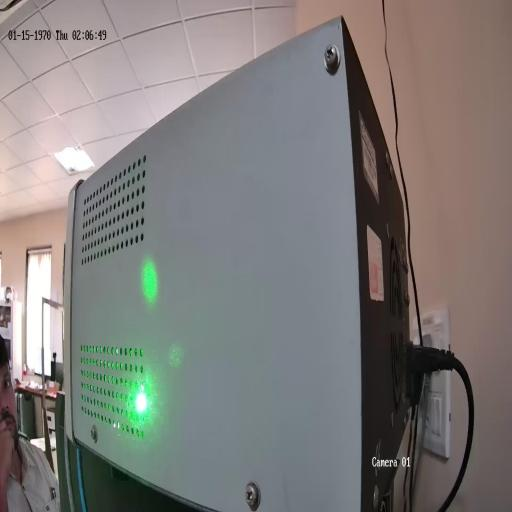laser: (133, 384, 150, 422)
